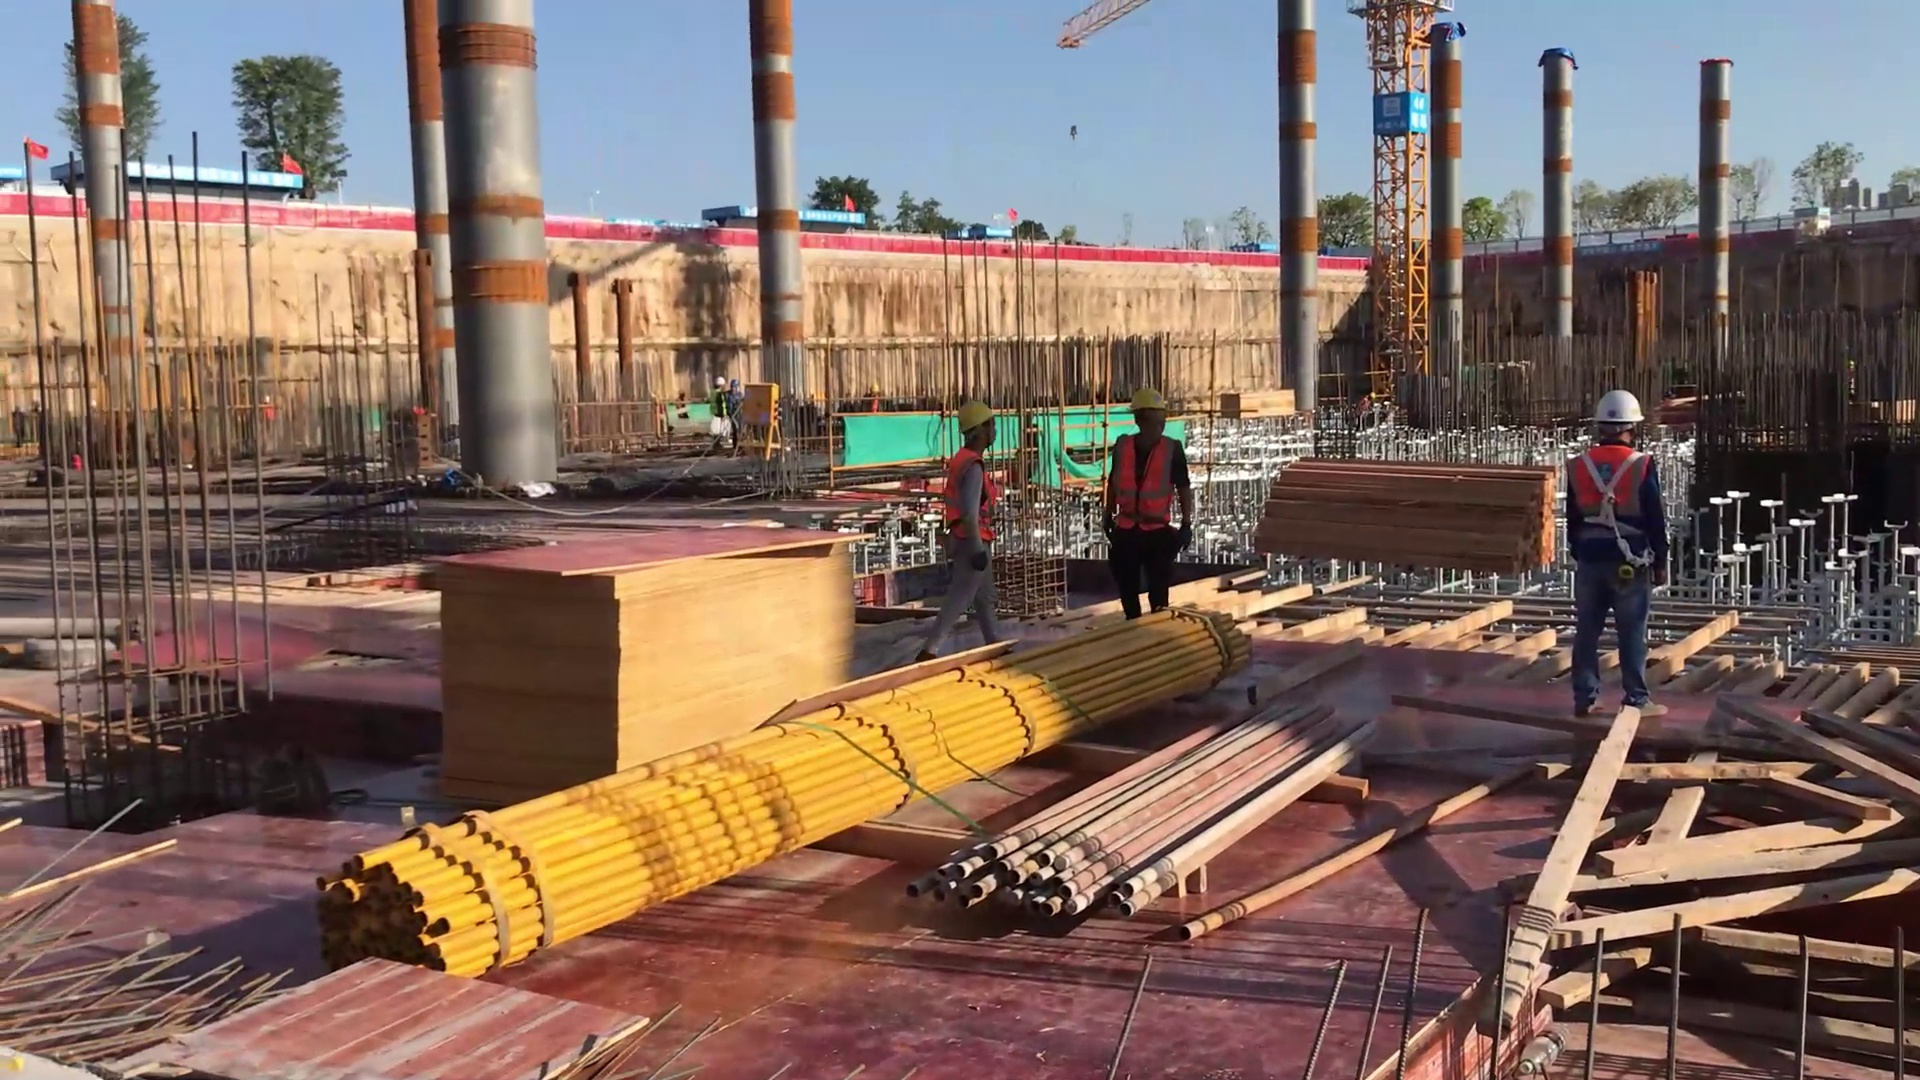helmet: (1582, 384, 1650, 433), (951, 395, 1000, 436), (1128, 387, 1172, 418)
person: (1554, 381, 1685, 731), (918, 391, 1026, 666), (1094, 381, 1206, 630)
vest: (1568, 438, 1658, 573), (933, 441, 1004, 556), (1110, 429, 1179, 538)
